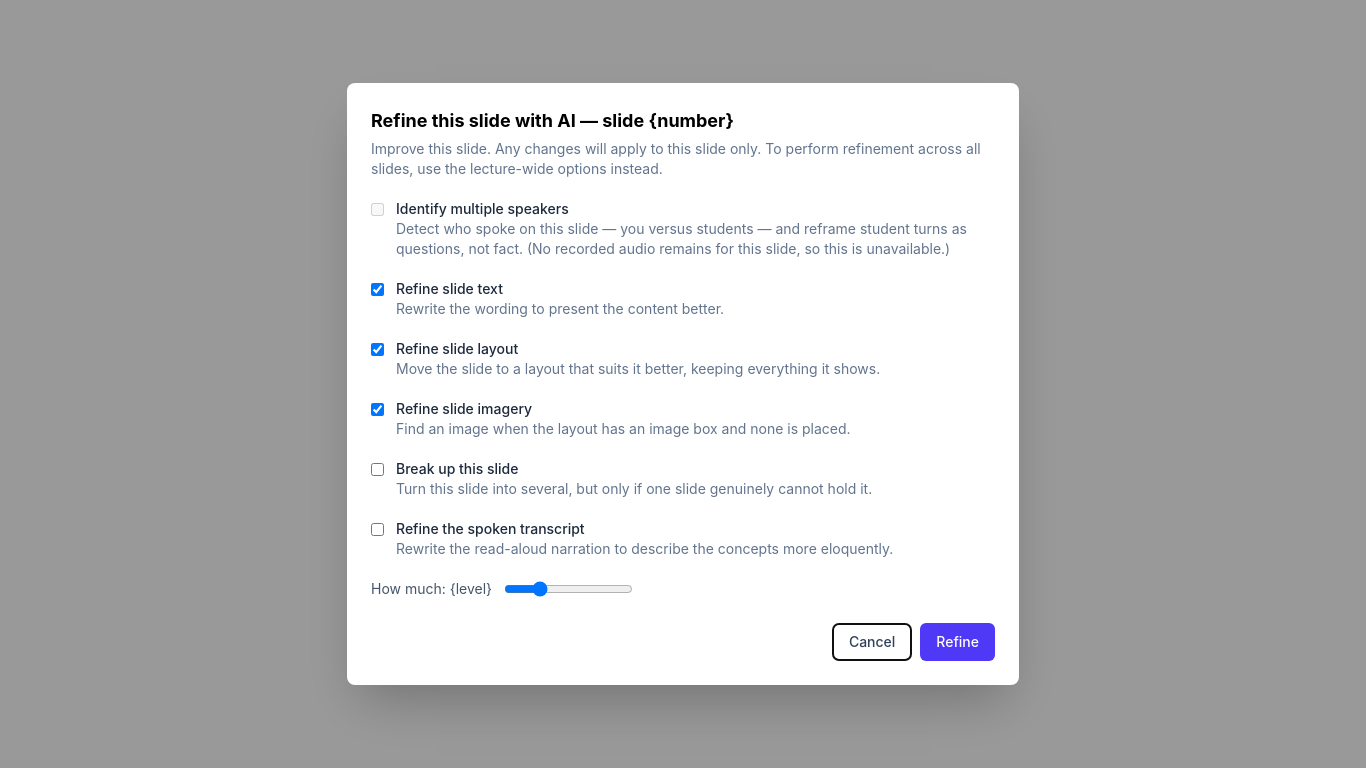
Test case: SlideRefineModal › stays open and reports a failed refine
The width and height of the screenshot is (1366, 768).
Click the button "Refine": (958, 642) top-left (920, 623), bottom-right (995, 661)
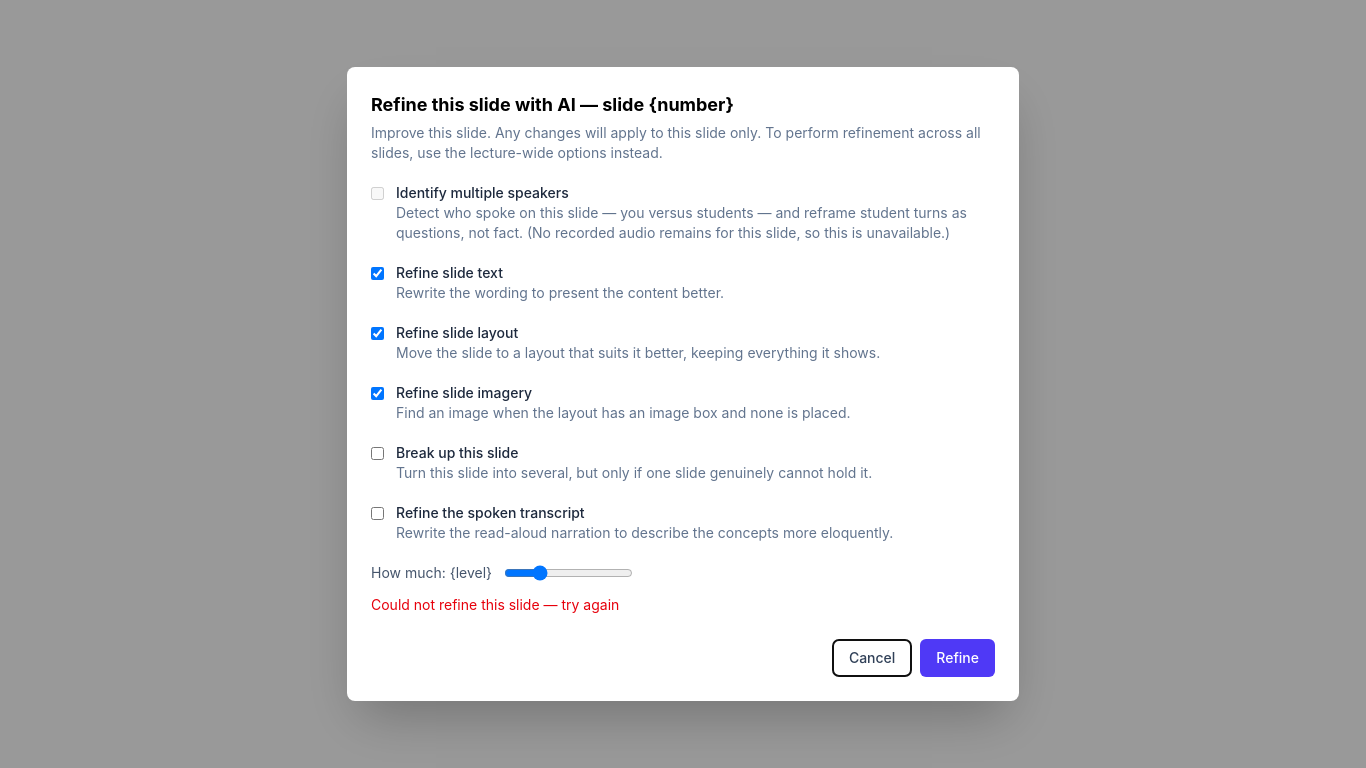
Check: the button "Refine" is enabled, box top-left (920, 639), bottom-right (995, 677)
Check: the message shows "Could not refine this slide", box top-left (371, 596), bottom-right (619, 613)
